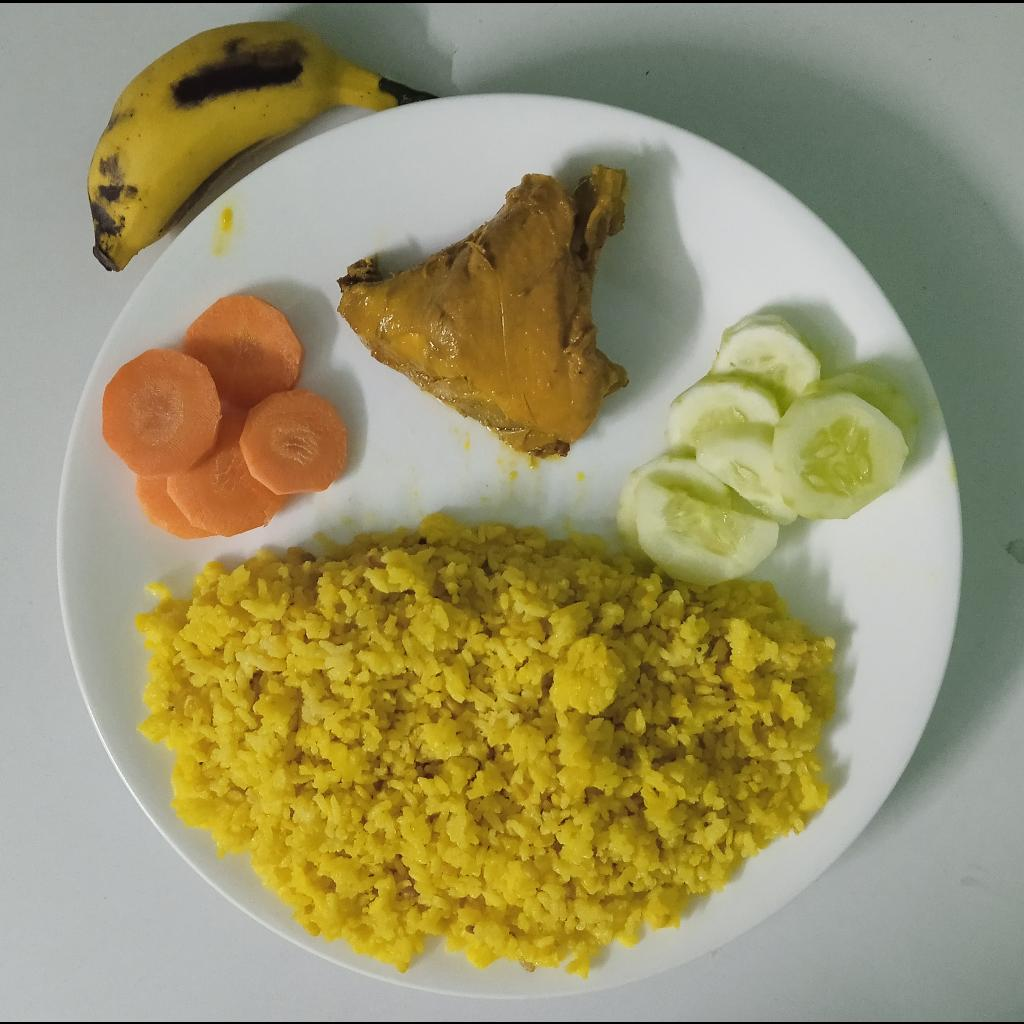banana: (88, 21, 441, 271)
carrot: (102, 293, 348, 539)
chicken: (336, 161, 632, 456)
cucumber: (616, 312, 919, 585)
khichuri: (138, 526, 843, 972)
